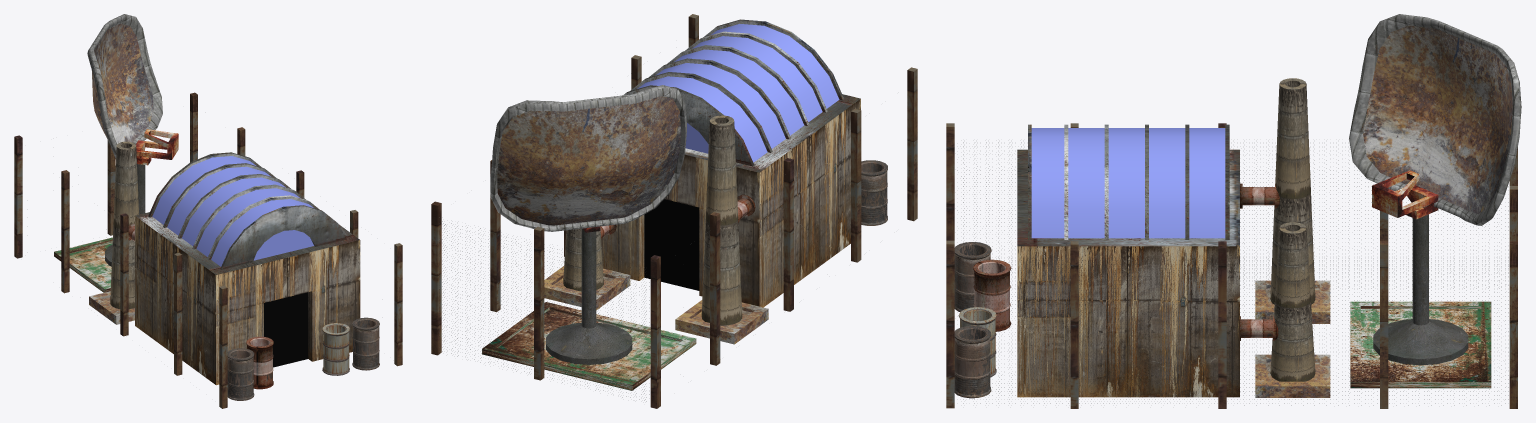
The model's file is Yard.FBX.
The picture shows the model from 3 angles, left to right: view 1: azimuth 30°, elevation 25°; view 2: azimuth 150°, elevation 25°; view 3: azimuth 270°, elevation 25°; orthographic projection. The views are drawn at different scales.
Parts seen in each view (by area): view 1: Box008, Cylinder059, Box006, Cylinder060, Box004, refinery_barrel, refinery_barrel001, refinery_barrel007, refinery_barrel002, Cylinder054, Cylinder056, Cylinder002 (+8 smaller); view 2: Box008, Box006, Cylinder059, Box004, Cylinder060, Cylinder052, Box026, refinery_barrel007, Cylinder055, Cylinder057, Cylinder004, Cylinder005 (+7 smaller); view 3: Box008, Box006, Cylinder059, Box004, Cylinder030, Cylinder060, Cylinder052, Cylinder045, refinery_barrel001, Box024, Box007, refinery_barrel002 (+12 smaller).
Part boxes in pixels (x1=…): Box008: x1=135, y1=212, x2=360, y2=385; Cylinder059: x1=148, y1=152, x2=346, y2=269; Box006: x1=87, y1=14, x2=162, y2=158; Cylinder060: x1=110, y1=141, x2=138, y2=309; Box004: x1=54, y1=237, x2=112, y2=292; refinery_barrel: x1=322, y1=323, x2=349, y2=375; refinery_barrel001: x1=352, y1=317, x2=379, y2=370; refinery_barrel007: x1=227, y1=348, x2=254, y2=400; refinery_barrel002: x1=246, y1=336, x2=273, y2=389; Cylinder054: x1=61, y1=170, x2=69, y2=293; Cylinder056: x1=120, y1=213, x2=128, y2=336; Cylinder002: x1=14, y1=135, x2=22, y2=258; Box008: x1=601, y1=94, x2=860, y2=307; Box006: x1=490, y1=85, x2=686, y2=231; Cylinder059: x1=623, y1=19, x2=843, y2=166; Box004: x1=482, y1=302, x2=696, y2=390; Cylinder060: x1=701, y1=115, x2=742, y2=325; Cylinder052: x1=546, y1=228, x2=632, y2=364; Box026: x1=675, y1=300, x2=768, y2=344; refinery_barrel007: x1=861, y1=160, x2=887, y2=225; Cylinder055: x1=851, y1=109, x2=861, y2=262; Cylinder057: x1=907, y1=67, x2=917, y2=221; Cylinder004: x1=431, y1=201, x2=441, y2=355; Cylinder005: x1=534, y1=226, x2=544, y2=380; Box008: x1=1017, y1=149, x2=1239, y2=397; Box006: x1=1349, y1=14, x2=1521, y2=225; Cylinder059: x1=1028, y1=124, x2=1229, y2=239; Box004: x1=1350, y1=301, x2=1491, y2=388; Cylinder030: x1=1270, y1=222, x2=1315, y2=381; Cylinder060: x1=1270, y1=78, x2=1315, y2=304; Cylinder052: x1=1373, y1=214, x2=1468, y2=365; Cylinder045: x1=961, y1=258, x2=1508, y2=405; refinery_barrel001: x1=954, y1=326, x2=991, y2=398; Box024: x1=1255, y1=354, x2=1330, y2=397; Box007: x1=1372, y1=170, x2=1438, y2=219; refinery_barrel002: x1=973, y1=259, x2=1011, y2=331.
Bounding box in the file's own units: 47.95 × 55.37 × 96.13.
